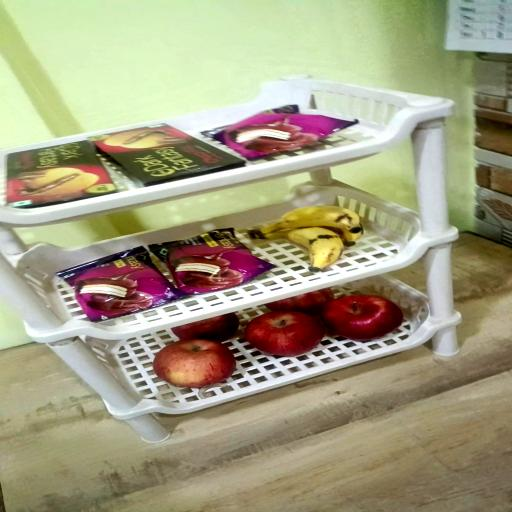Apple: (155, 339, 238, 388), (320, 295, 402, 341), (246, 311, 325, 357), (172, 314, 240, 343), (266, 288, 335, 314)
Choco Fills: (92, 122, 244, 186), (6, 144, 118, 211)
Choco Pie: (56, 247, 181, 322), (205, 104, 361, 159), (154, 230, 277, 296)
